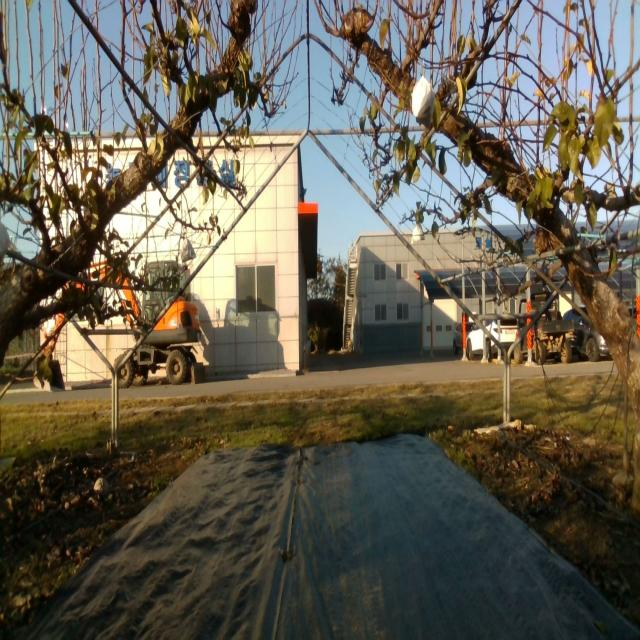pearbags: (410, 75, 434, 122), (181, 237, 196, 262), (410, 223, 425, 245)
